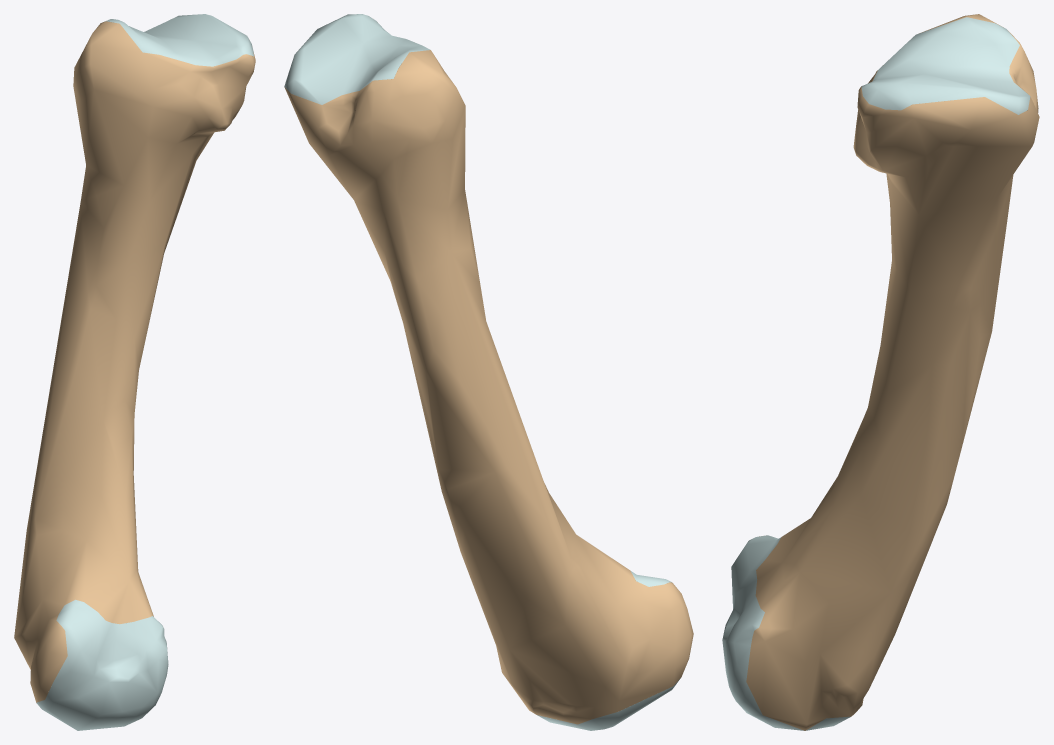
Rendered from 2d_metacarpal_bone.r_Generated_Mesh_From_X3D.741.glb.
The picture shows the model from 3 angles, left to right: view 1: azimuth 30°, elevation 25°; view 2: azimuth 150°, elevation 25°; view 3: azimuth 270°, elevation 25°; orthographic projection. The views are drawn at different scales.
Parts seen in each view (by area): view 1: 2d_metacarpal_bone.r_Generated_Mesh_From_X3D.741; view 2: 2d_metacarpal_bone.r_Generated_Mesh_From_X3D.741; view 3: 2d_metacarpal_bone.r_Generated_Mesh_From_X3D.741.
Boxes of the visible parts, x1,y1,x2,y2 form: 2d_metacarpal_bone.r_Generated_Mesh_From_X3D.741: (14, 14, 255, 730); 2d_metacarpal_bone.r_Generated_Mesh_From_X3D.741: (284, 14, 693, 730); 2d_metacarpal_bone.r_Generated_Mesh_From_X3D.741: (722, 14, 1039, 730).
Bounding box in the file's own units: 0.0321 × 0.0705 × 0.0267.
